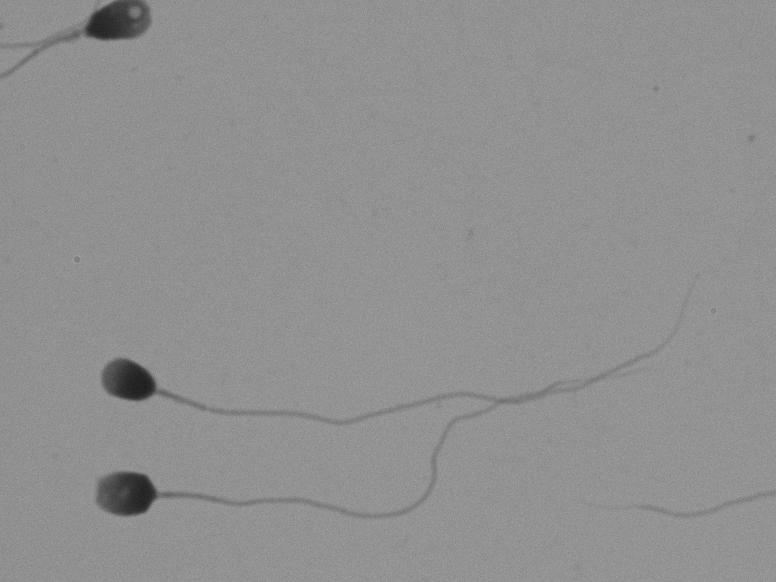Abnormal: (78, 441, 432, 563), (22, 1, 205, 111)
Normal: (58, 276, 753, 437)
